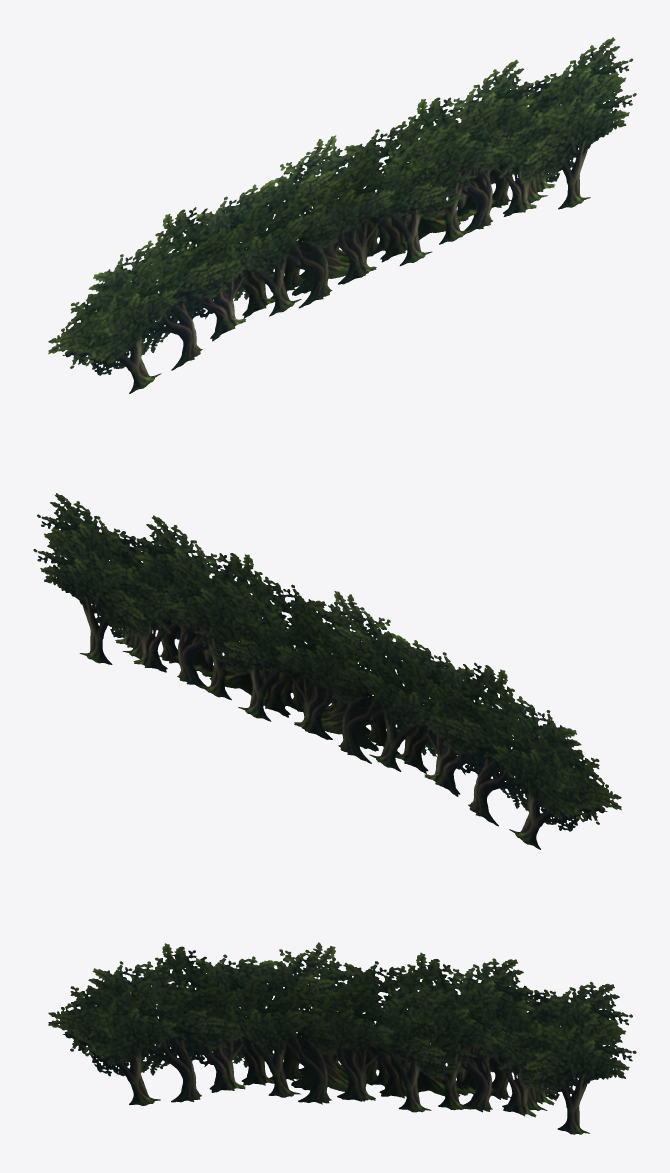
Rendered from Castle Tower_Tree Group.FBX.
The picture shows the model from 3 angles, top to bottom: view 1: azimuth 30°, elevation 25°; view 2: azimuth 150°, elevation 25°; view 3: azimuth 330°, elevation 25°; orthographic projection.
Parts seen in each view (by area): view 1: Tree Group; view 2: Tree Group; view 3: Tree Group.
Part boxes in pixels (left/top/right/bottom): Tree Group: left=48, top=37, right=636, bottom=393; Tree Group: left=33, top=493, right=621, bottom=849; Tree Group: left=48, top=942, right=636, bottom=1134.
Size of the model in its own units: 3919 by 4.38 by 1678.
